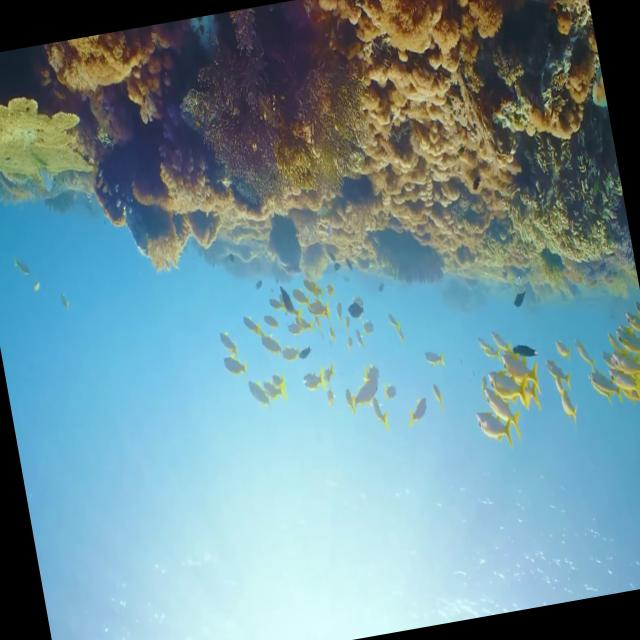fish: (472, 400, 513, 450), (485, 384, 523, 436), (340, 367, 382, 412)
